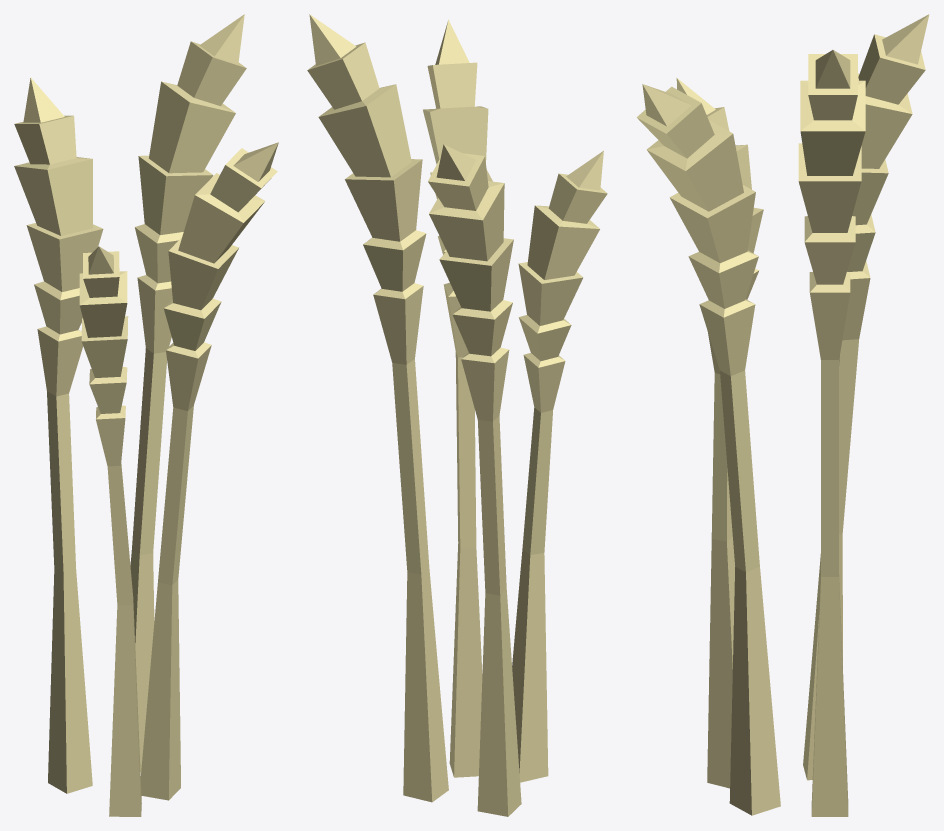
File: flower_parts.glb
3 views of the same model, side by side, from view 1: azimuth 30°, elevation 25°; view 2: azimuth 150°, elevation 25°; view 3: azimuth 270°, elevation 25° (orthographic). The views are drawn at different scales.
Parts seen in each view (by area): view 1: Wheat; view 2: Wheat; view 3: Wheat.
Part boxes in pixels (<box>): Wheat: <box>14,14,278,816</box>; Wheat: <box>307,14,607,816</box>; Wheat: <box>636,14,929,816</box>.
Bounding box in the file's own units: 58.43 × 180 × 58.22.
